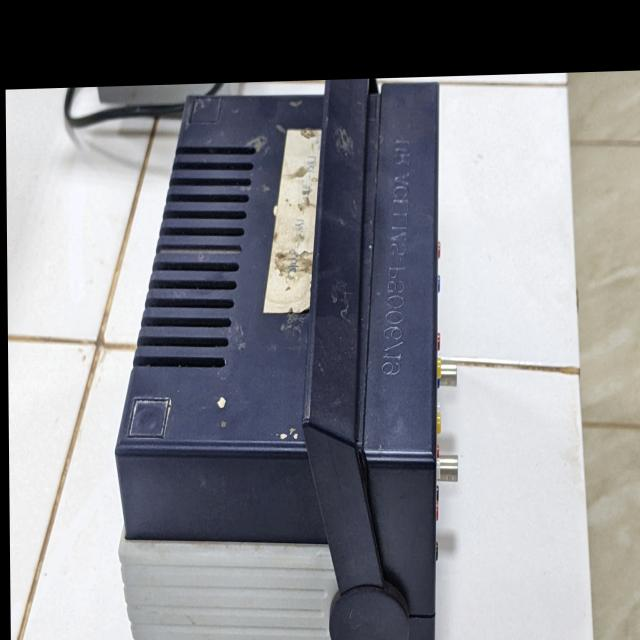Power Supply of Speed of Light Demo: (105, 91, 472, 640)
